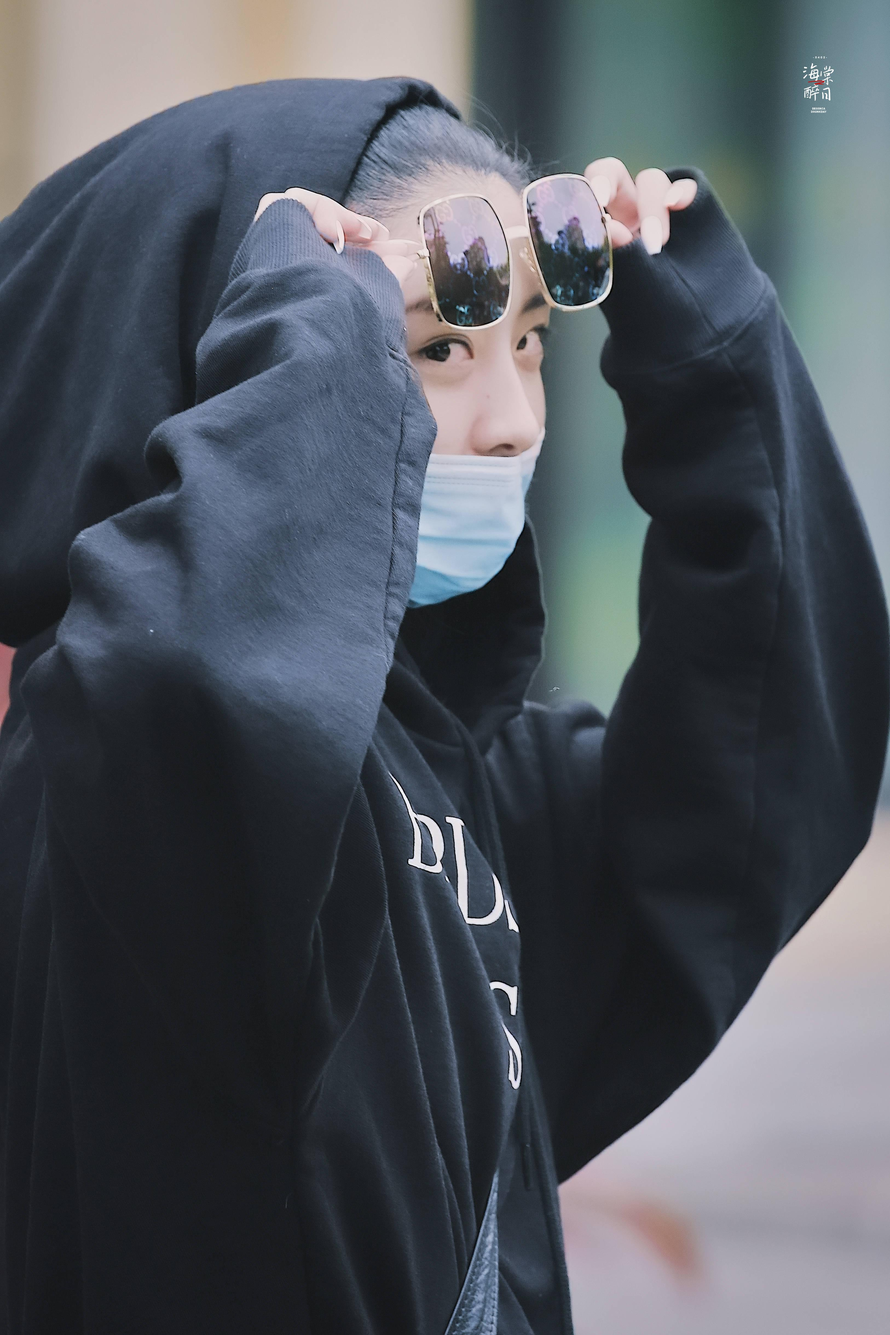WRONG: (400, 279, 549, 608)
